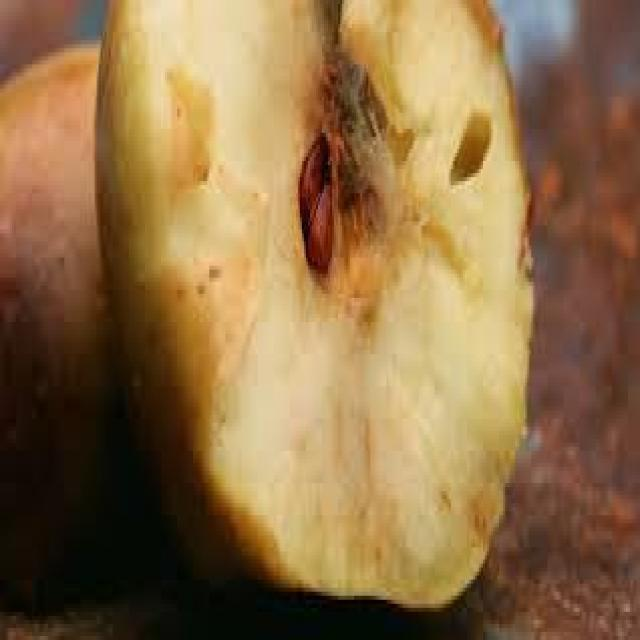Rotten: (83, 1, 549, 640)
